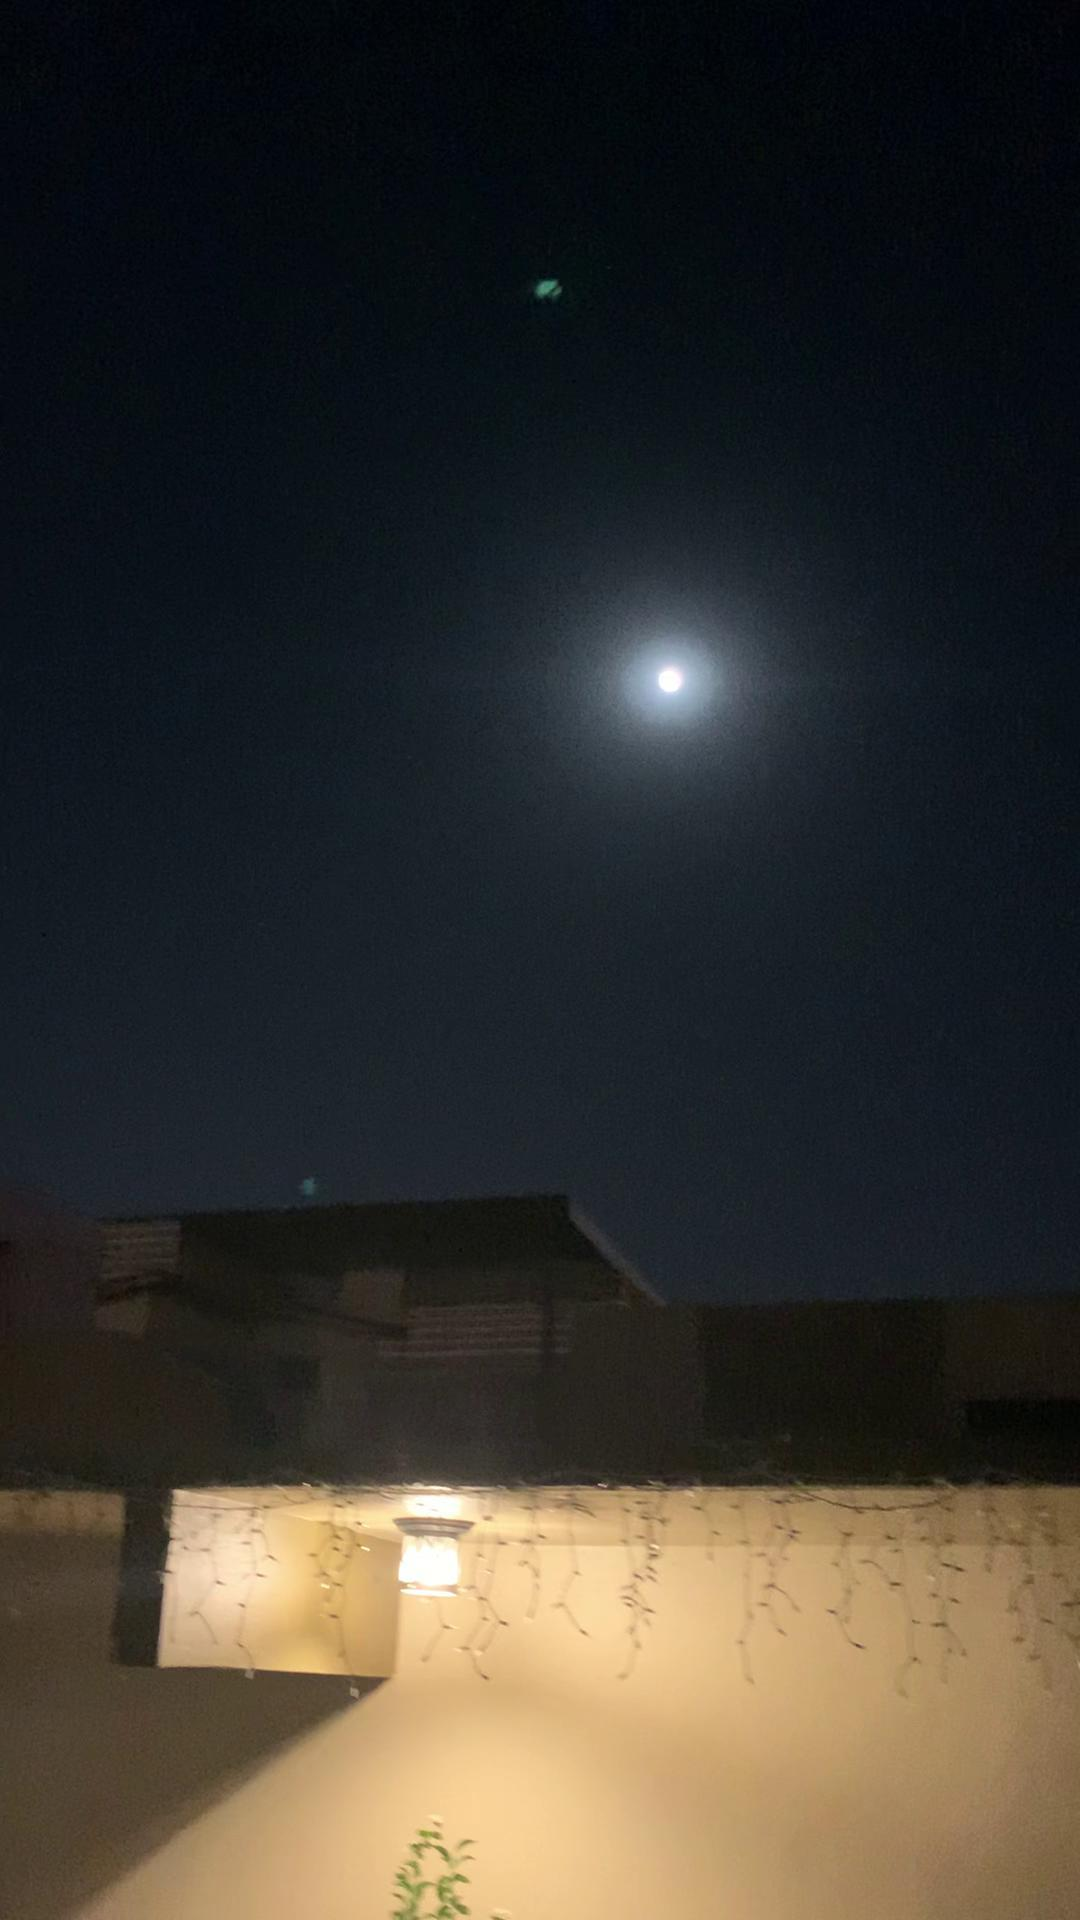moon: (637, 644, 724, 723)
